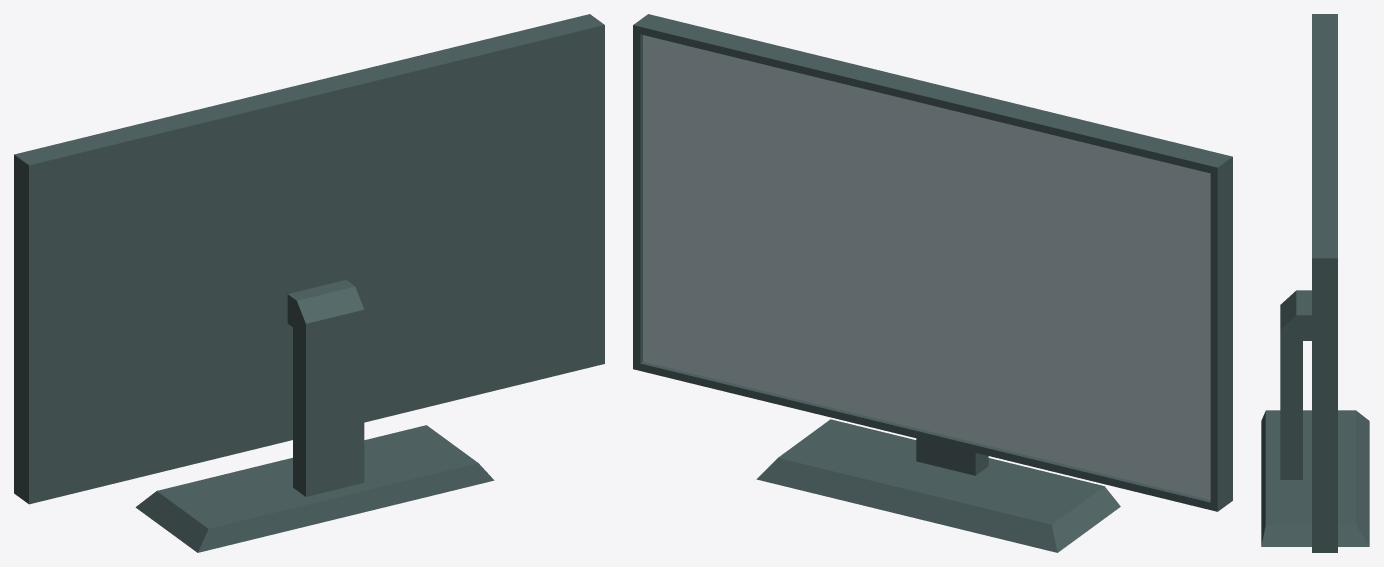
File: televisionModern.fbx
3 views of the same model, side by side, from view 1: azimuth 30°, elevation 25°; view 2: azimuth 150°, elevation 25°; view 3: azimuth 270°, elevation 25° (orthographic). The views are drawn at different scales.
Parts seen in each view (by area): view 1: televisionModern; view 2: televisionModern; view 3: televisionModern.
Part boxes in pixels (left/top/right/bottom): televisionModern: left=14, top=14, right=604, bottom=552; televisionModern: left=633, top=14, right=1232, bottom=552; televisionModern: left=1261, top=14, right=1369, bottom=552.
Size of the model in its own units: 6.85 by 4.55 by 1.28.
